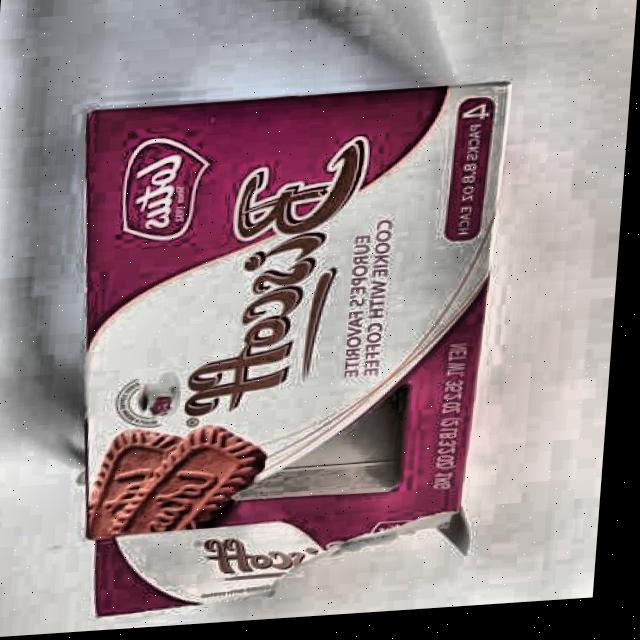paper: (47, 79, 511, 621)
